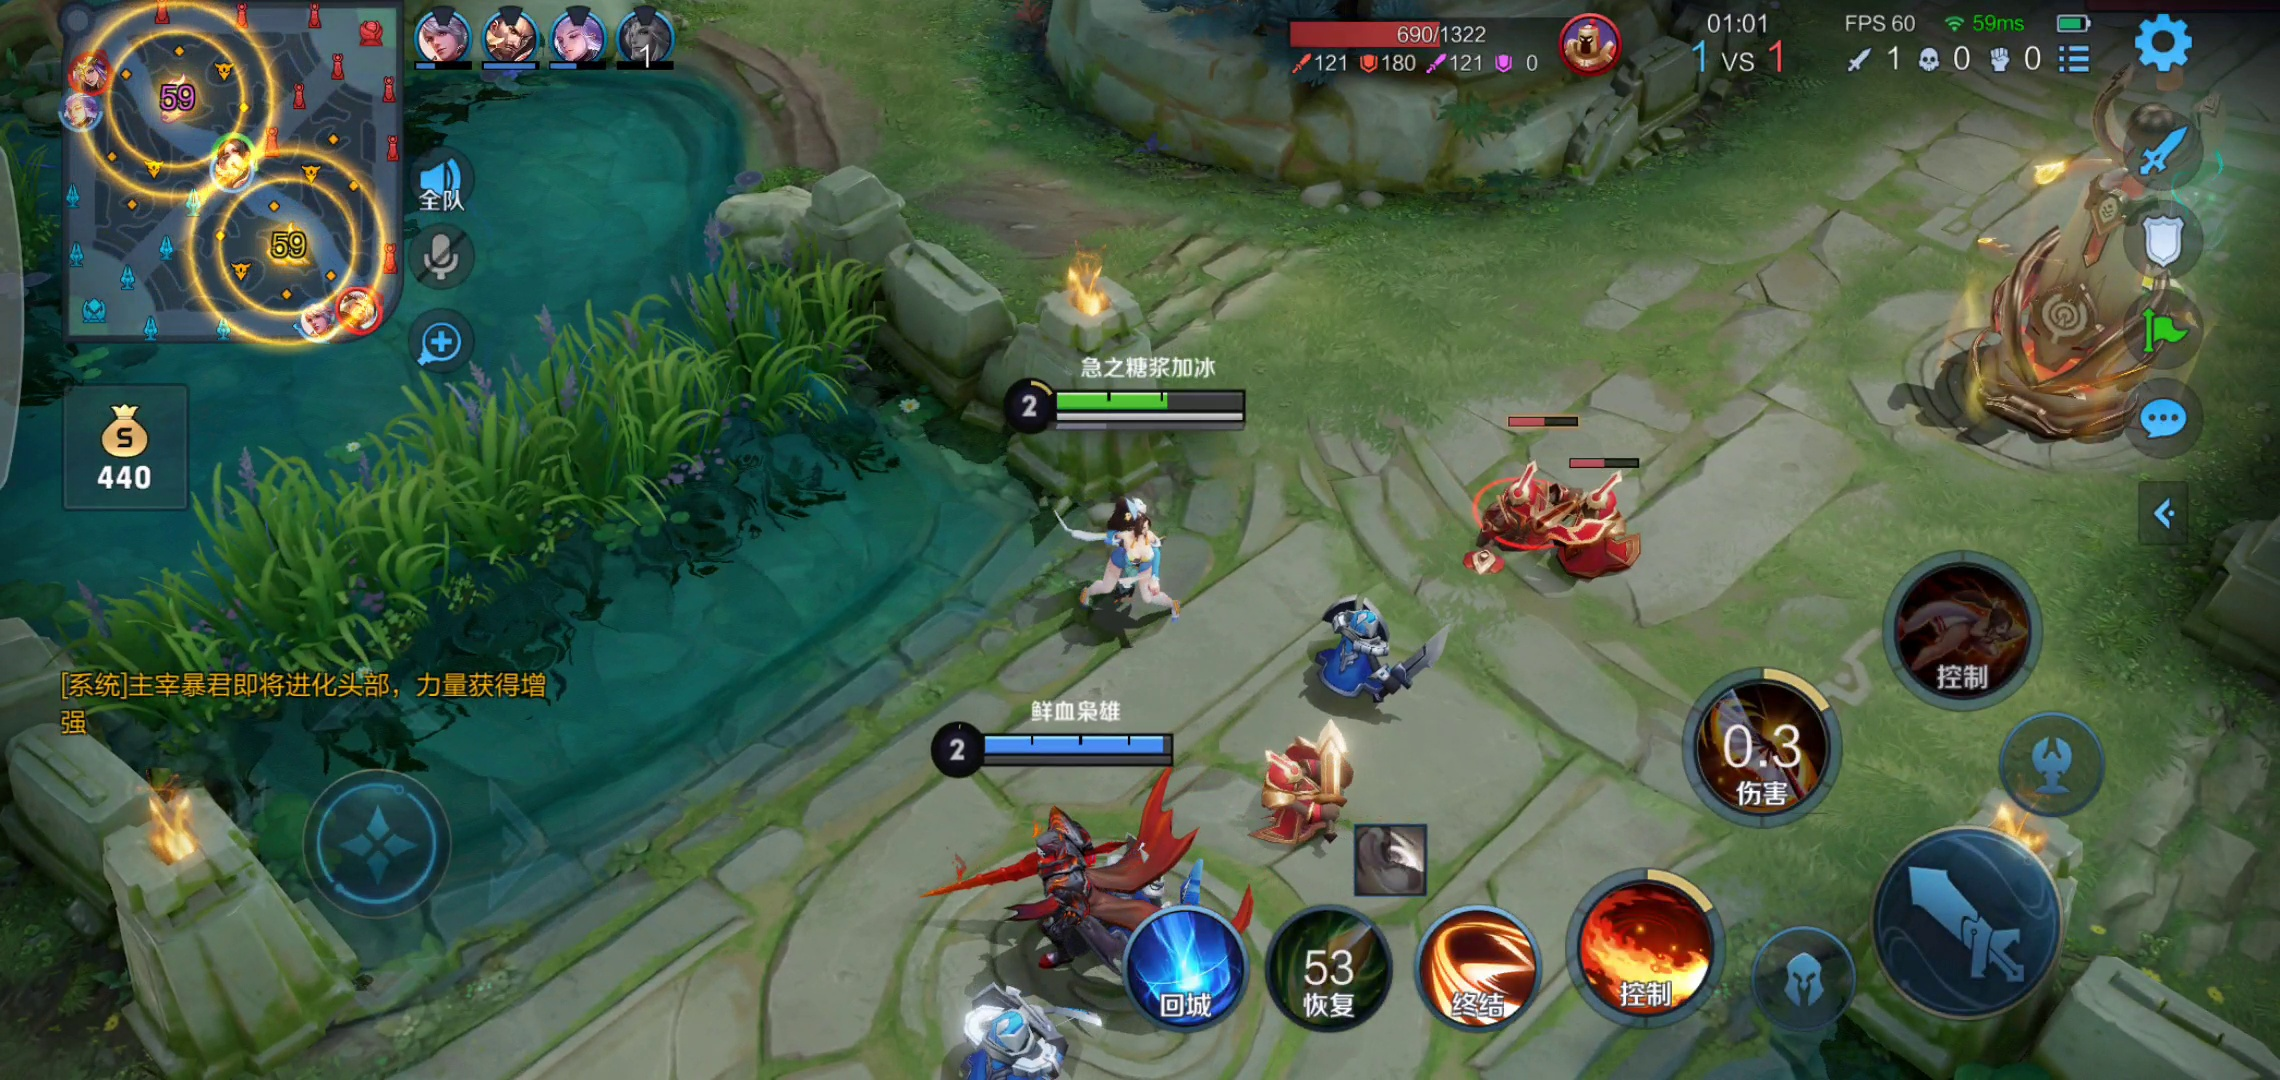grass: (44, 267, 902, 786)
hero: (1028, 487, 1221, 640), (971, 815, 1143, 975)
soldier: (1301, 584, 1456, 714), (1248, 734, 1377, 847), (934, 987, 1085, 1079), (1544, 487, 1658, 584), (1467, 464, 1559, 558)
tower: (1927, 68, 2236, 435)
